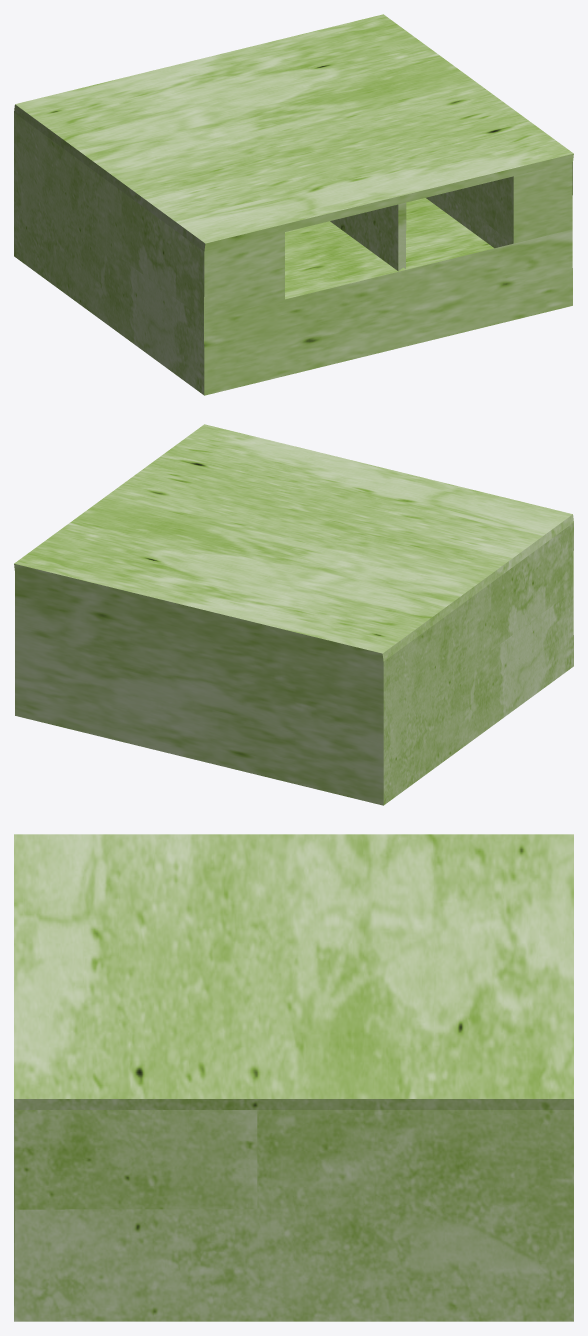
The model's file is bottom_green.obj.
3 views of the same model, one above another, from view 1: azimuth 30°, elevation 25°; view 2: azimuth 150°, elevation 25°; view 3: azimuth 270°, elevation 25° (orthographic). The views are drawn at different scales.
Visible parts, largest first — view 1: black_wall.013; view 2: black_wall.013; view 3: black_wall.013.
Part boxes in pixels (x1,y1,x2,y2): black_wall.013: [14, 14, 573, 395]; black_wall.013: [14, 424, 573, 805]; black_wall.013: [14, 834, 573, 1321].
Size of the model in its own units: 39.72 by 15.6 by 35.45.
